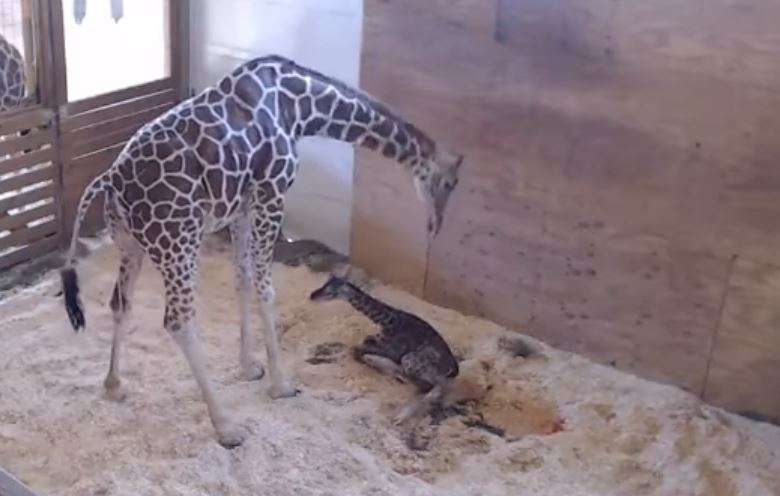Jirafa: (255, 49, 482, 251), (304, 267, 490, 468)
